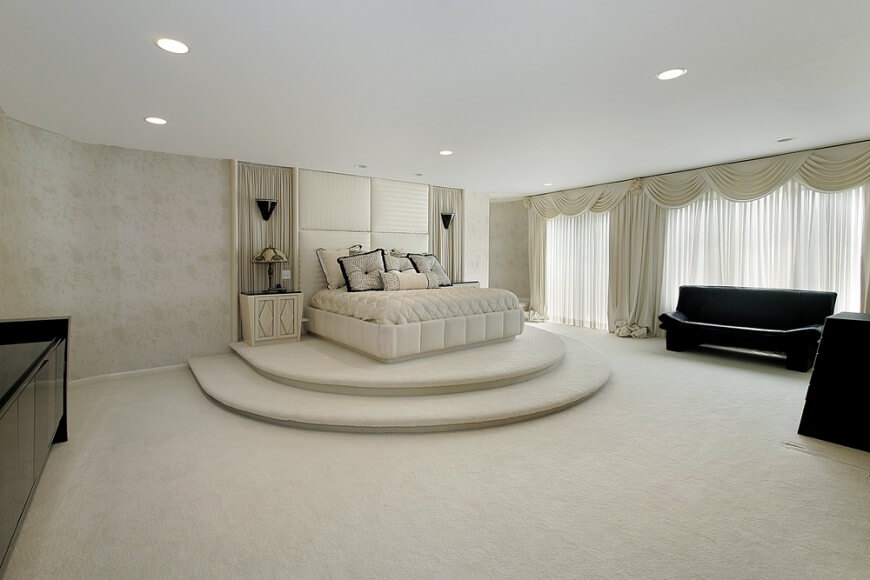chairs: (654, 283, 842, 376)
